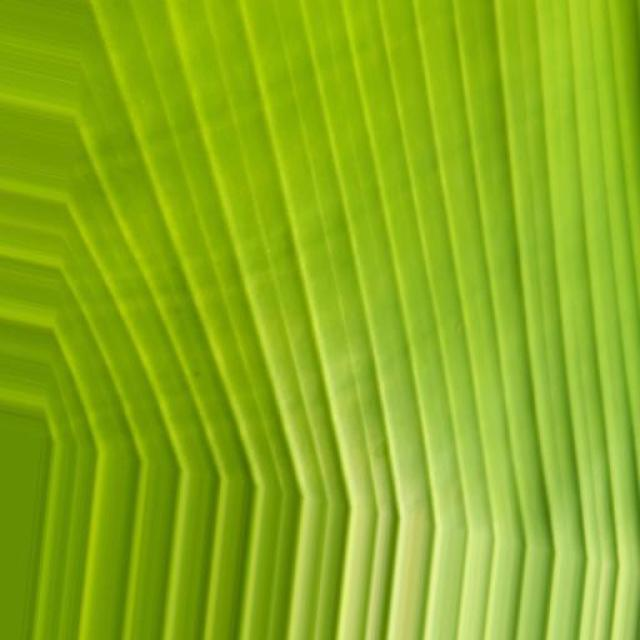Black_leaf_spot: (49, 0, 614, 580)
